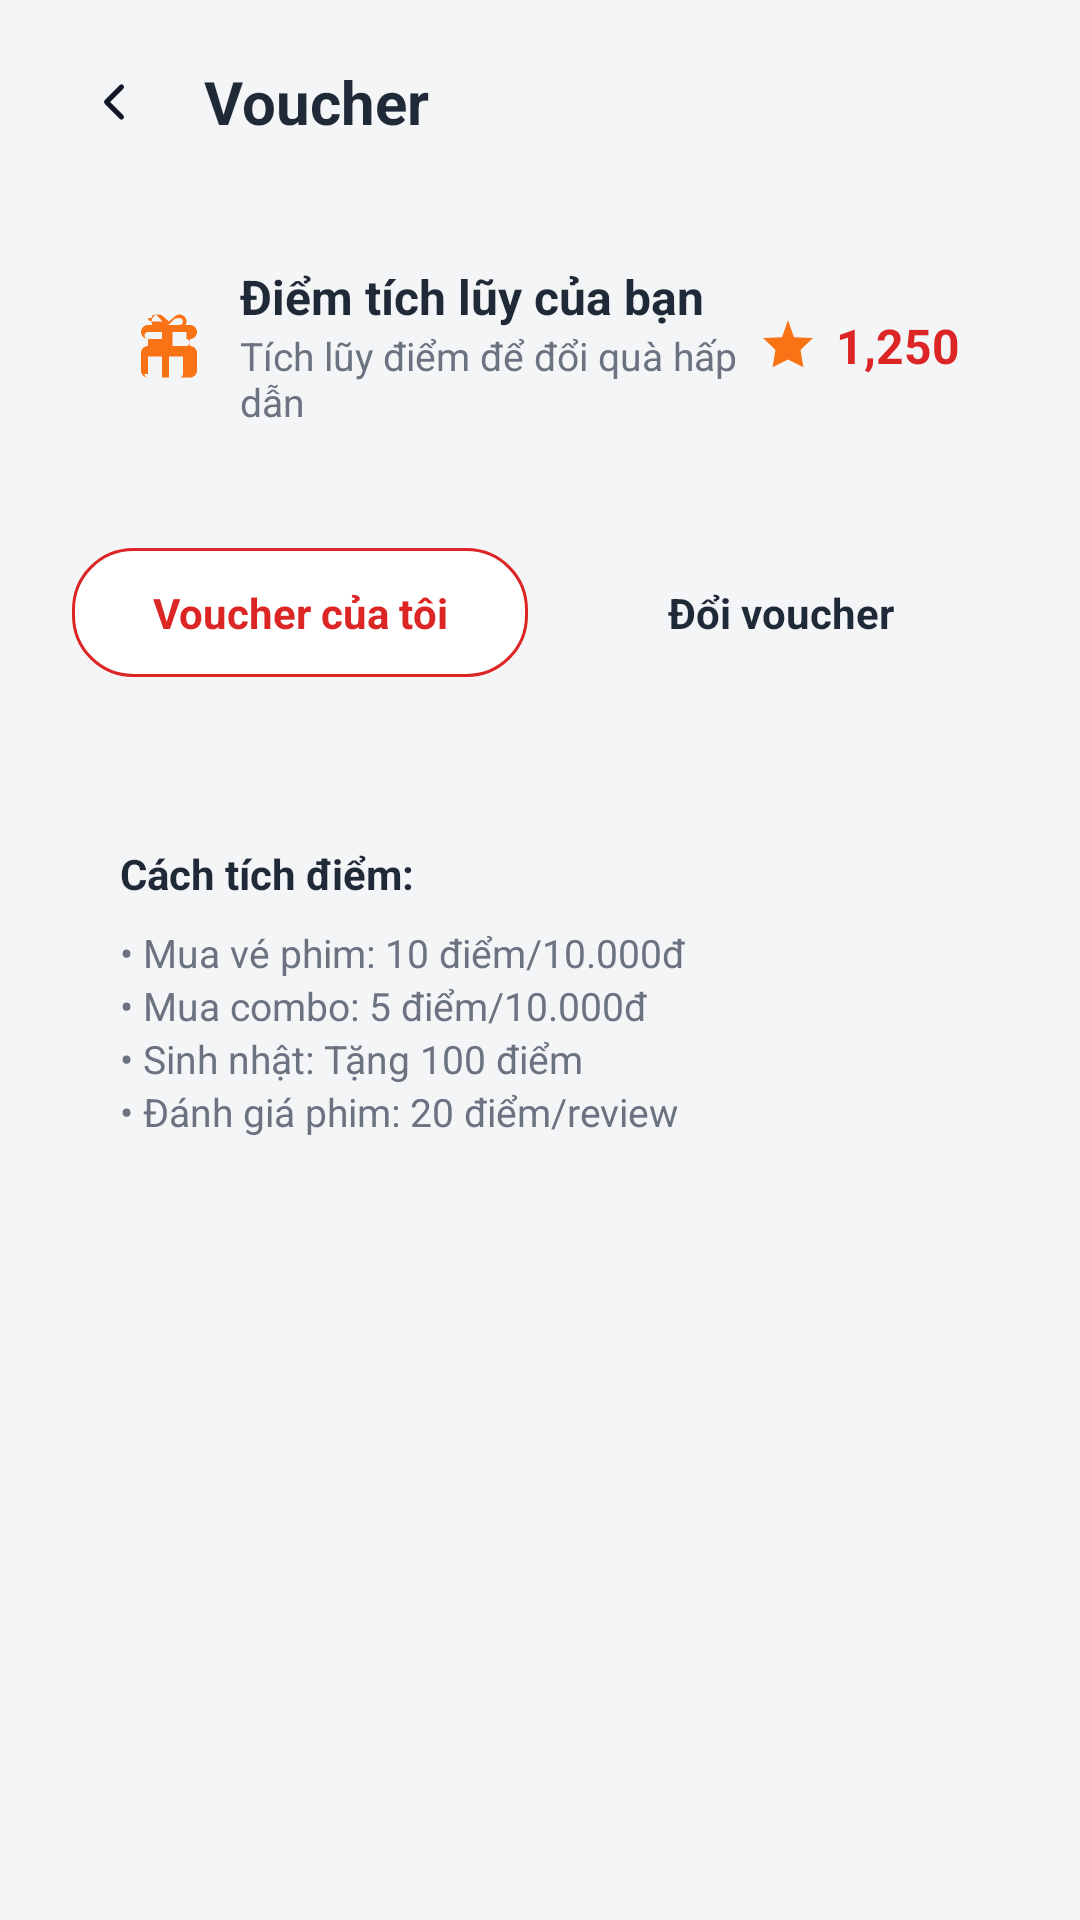

Screen size 1080 x 1920. Icon name, then its box in pixels as (x1, y1, x2, y2):
back: (104, 84, 124, 120)
gift: (141, 314, 197, 378)
star: (763, 320, 813, 367)
